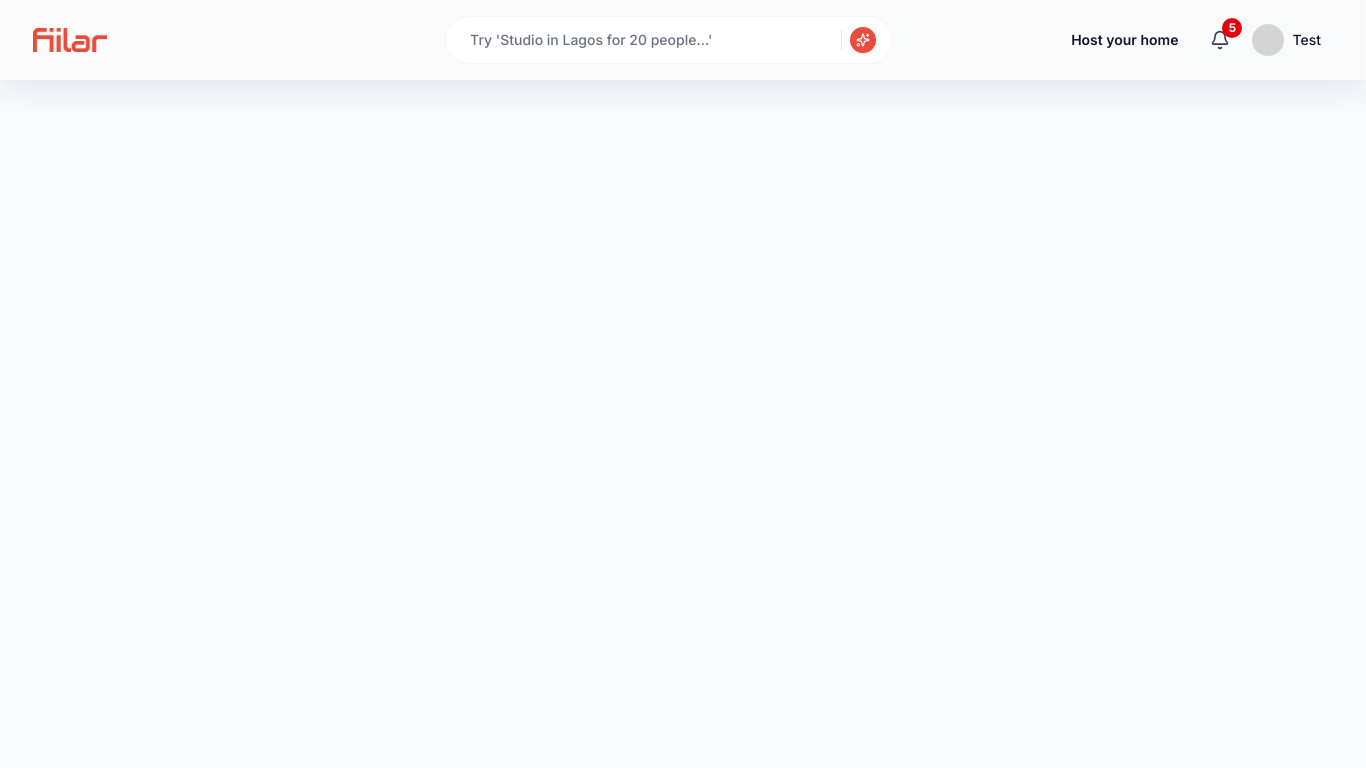
Navbar › closes account menu when clicking outside
Click the button with aria-label "account" at [1290, 40], box [1246, 18, 1333, 62]
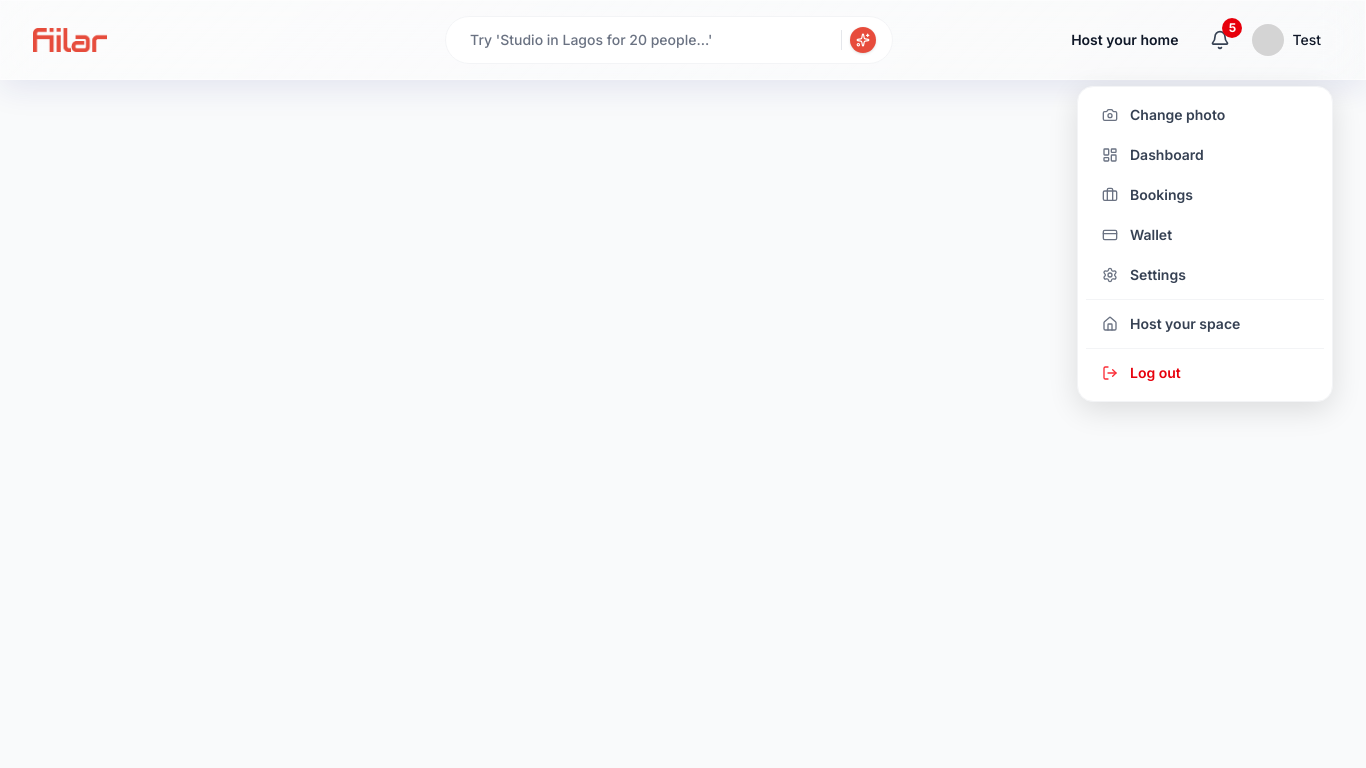
Result: the button "Log out" is shown at [1086, 353, 1324, 393]
Press the mouse on the element that starts with "Host your home" at [683, 384], box [0, 0, 1365, 767]
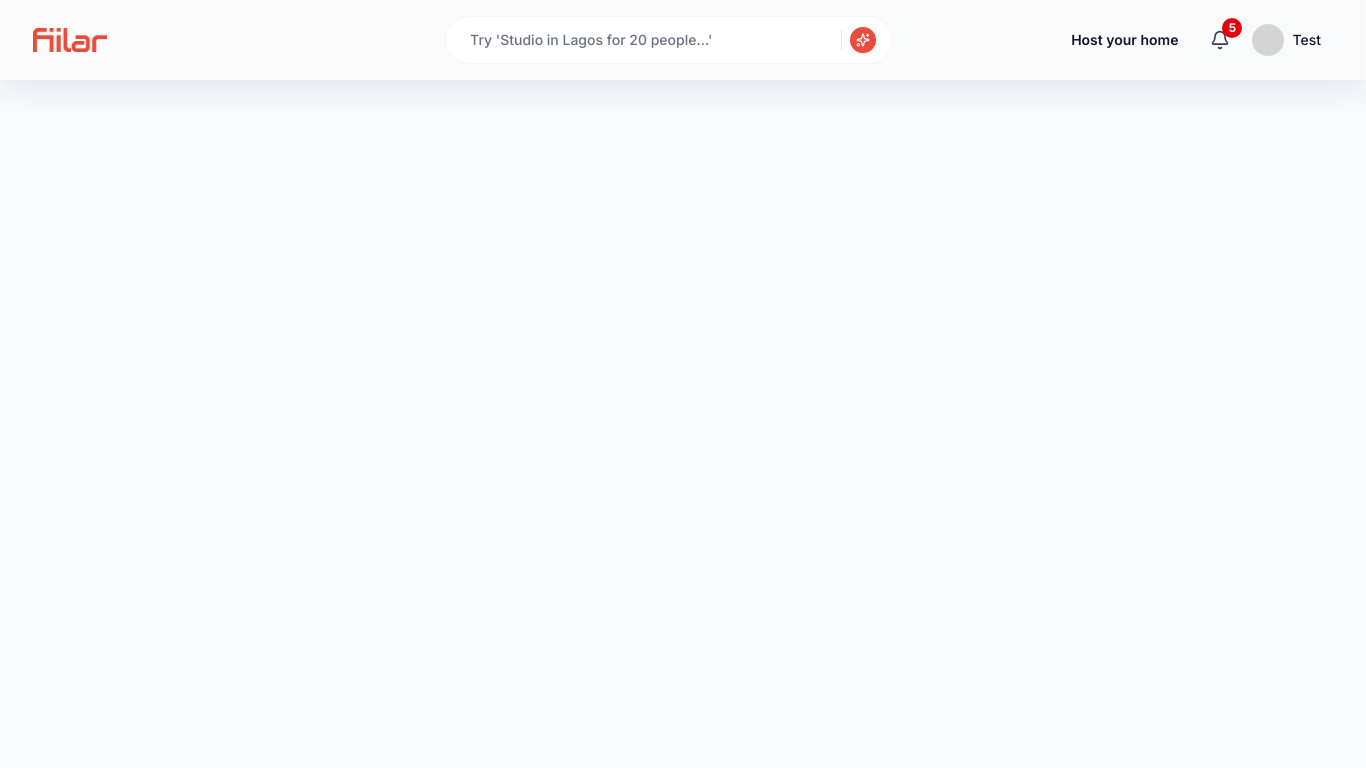
Result: the button "Log out" is gone
